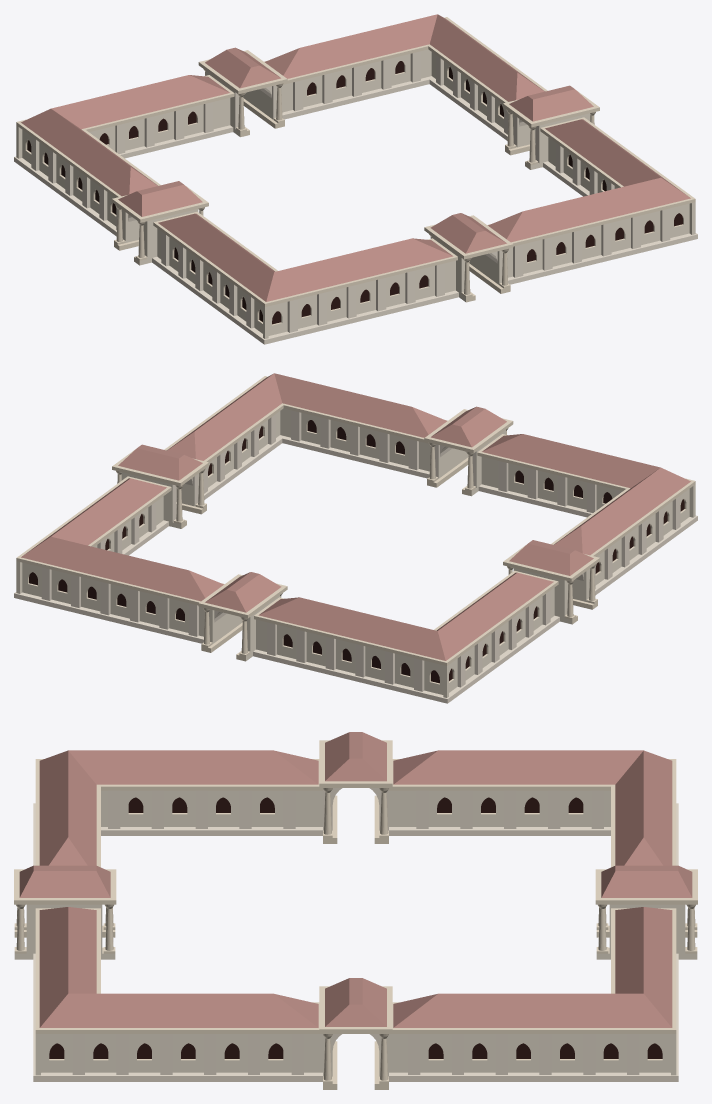
File: SmallHouses.fbx
3 renders of one model, top to bottom at view 1: azimuth 30°, elevation 25°; view 2: azimuth 150°, elevation 25°; view 3: azimuth 270°, elevation 25°, orthographic. The views are drawn at different scales.
Visible parts, largest first — view 1: buildings9; view 2: buildings9; view 3: buildings9.
Boxes of the visible parts, <box> form: buildings9: <box>14,14,697,344</box>; buildings9: <box>14,373,697,703</box>; buildings9: <box>14,732,697,1089</box>.
Bounding box in the file's own units: 74.52 × 9.3 × 74.52.
